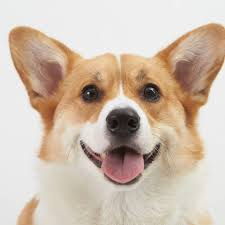dog: (5, 19, 225, 223)
